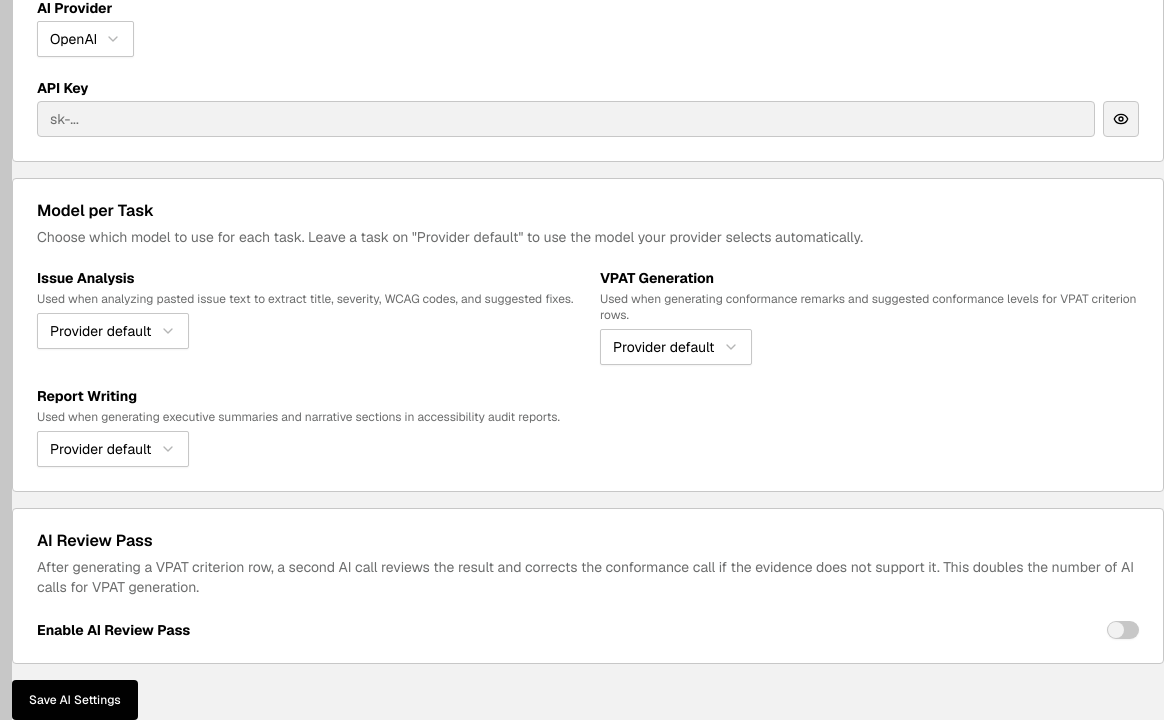
AIConfigSection — per-task model selectors › shows review model selector when toggle is switched on
(page scrolled)
Click the switch named "enable ai review pass".
click(1123, 630)  # box [1107,621,1139,639]
(page scrolled)
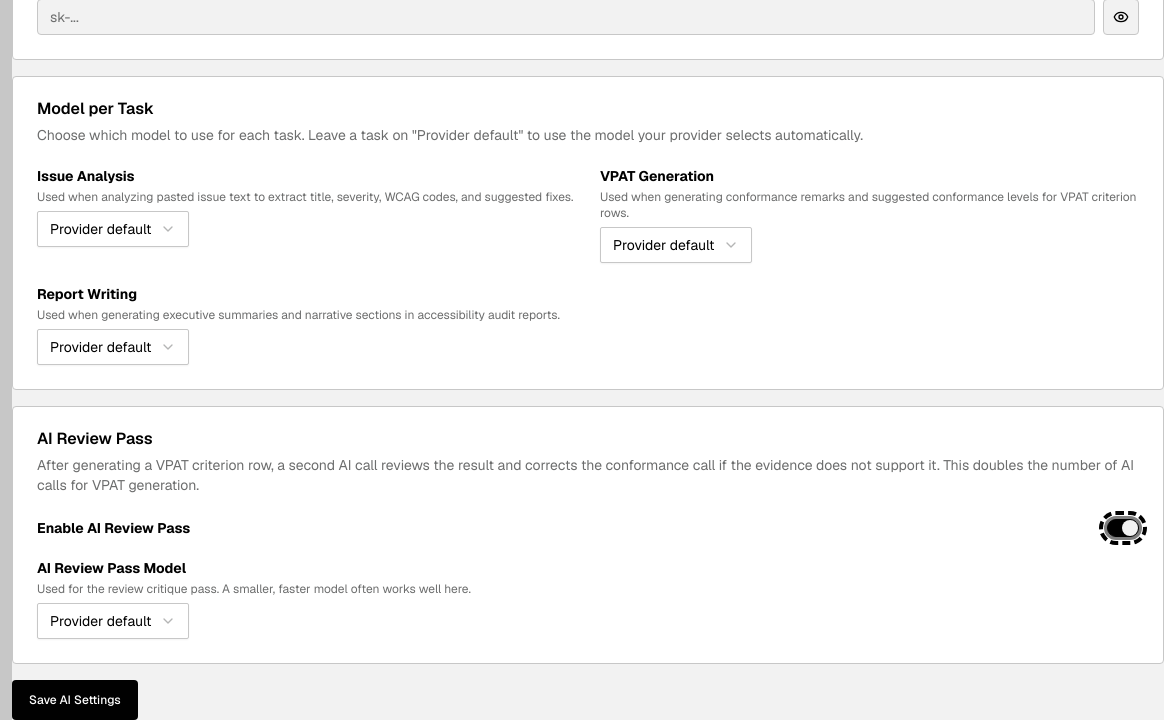
Check: the dropdown named "ai review pass model" is shown, box [37,603,189,639]
